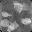people: (14, 2, 23, 13), (9, 21, 19, 30), (21, 17, 32, 25), (1, 19, 11, 27), (1, 11, 11, 18)
